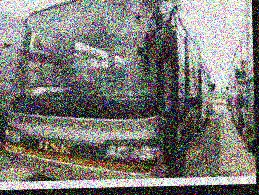bus: (0, 0, 218, 181)
